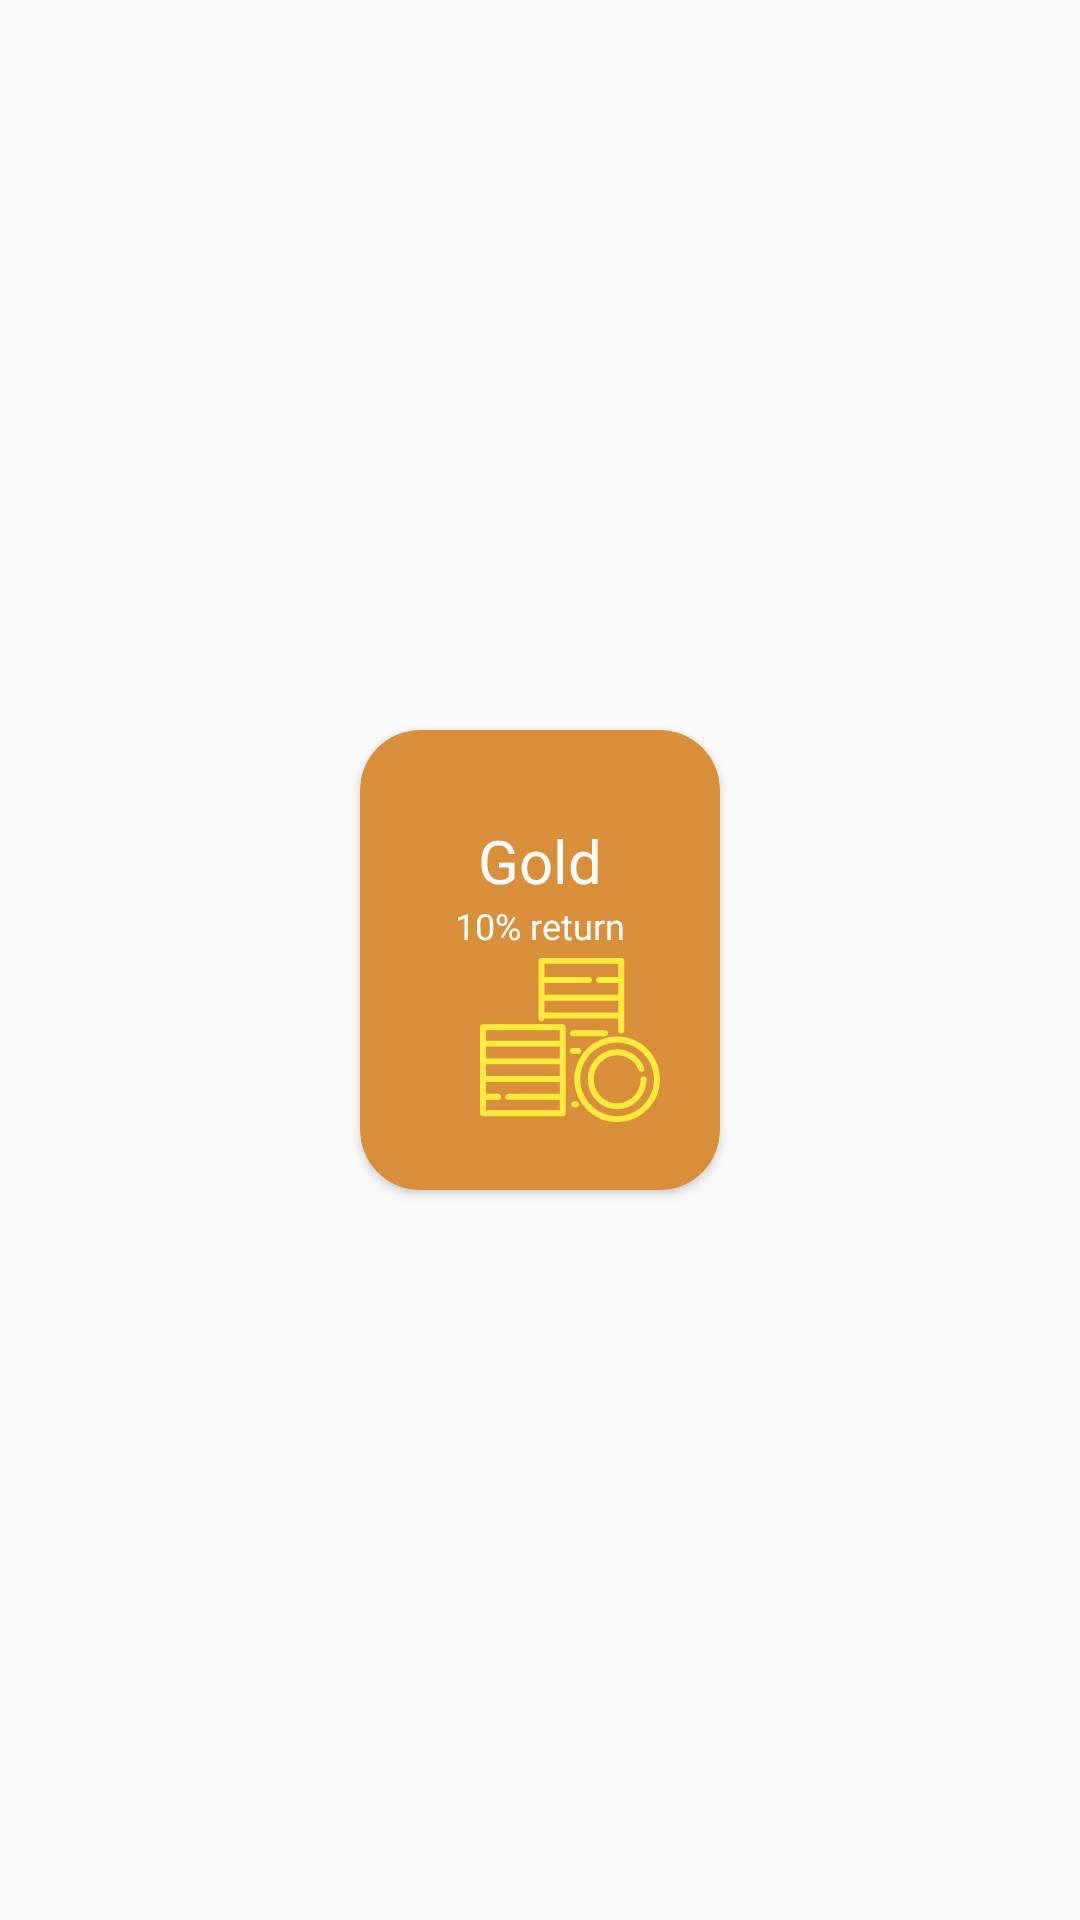

Screen size 1080×1920. Icon name, then its center in pixels as (x=x, y=y):
investment: (x=570, y=1040)
